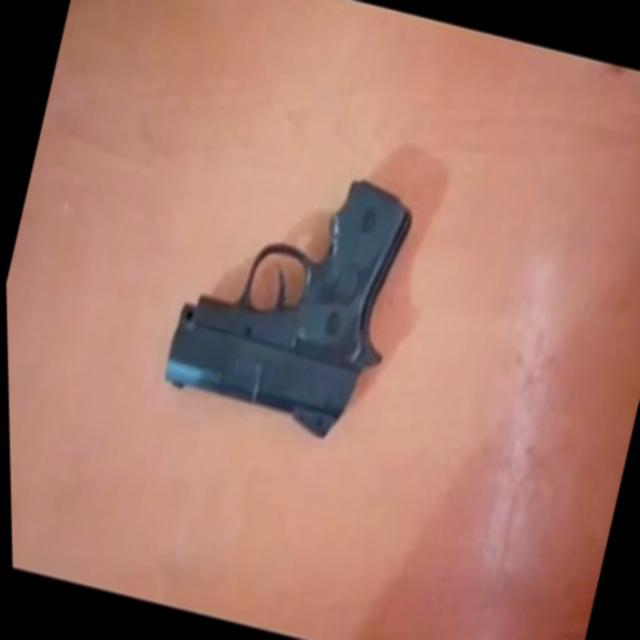weapon: (151, 141, 424, 449)
